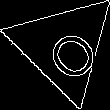O_NW: (30, 13, 97, 80)
